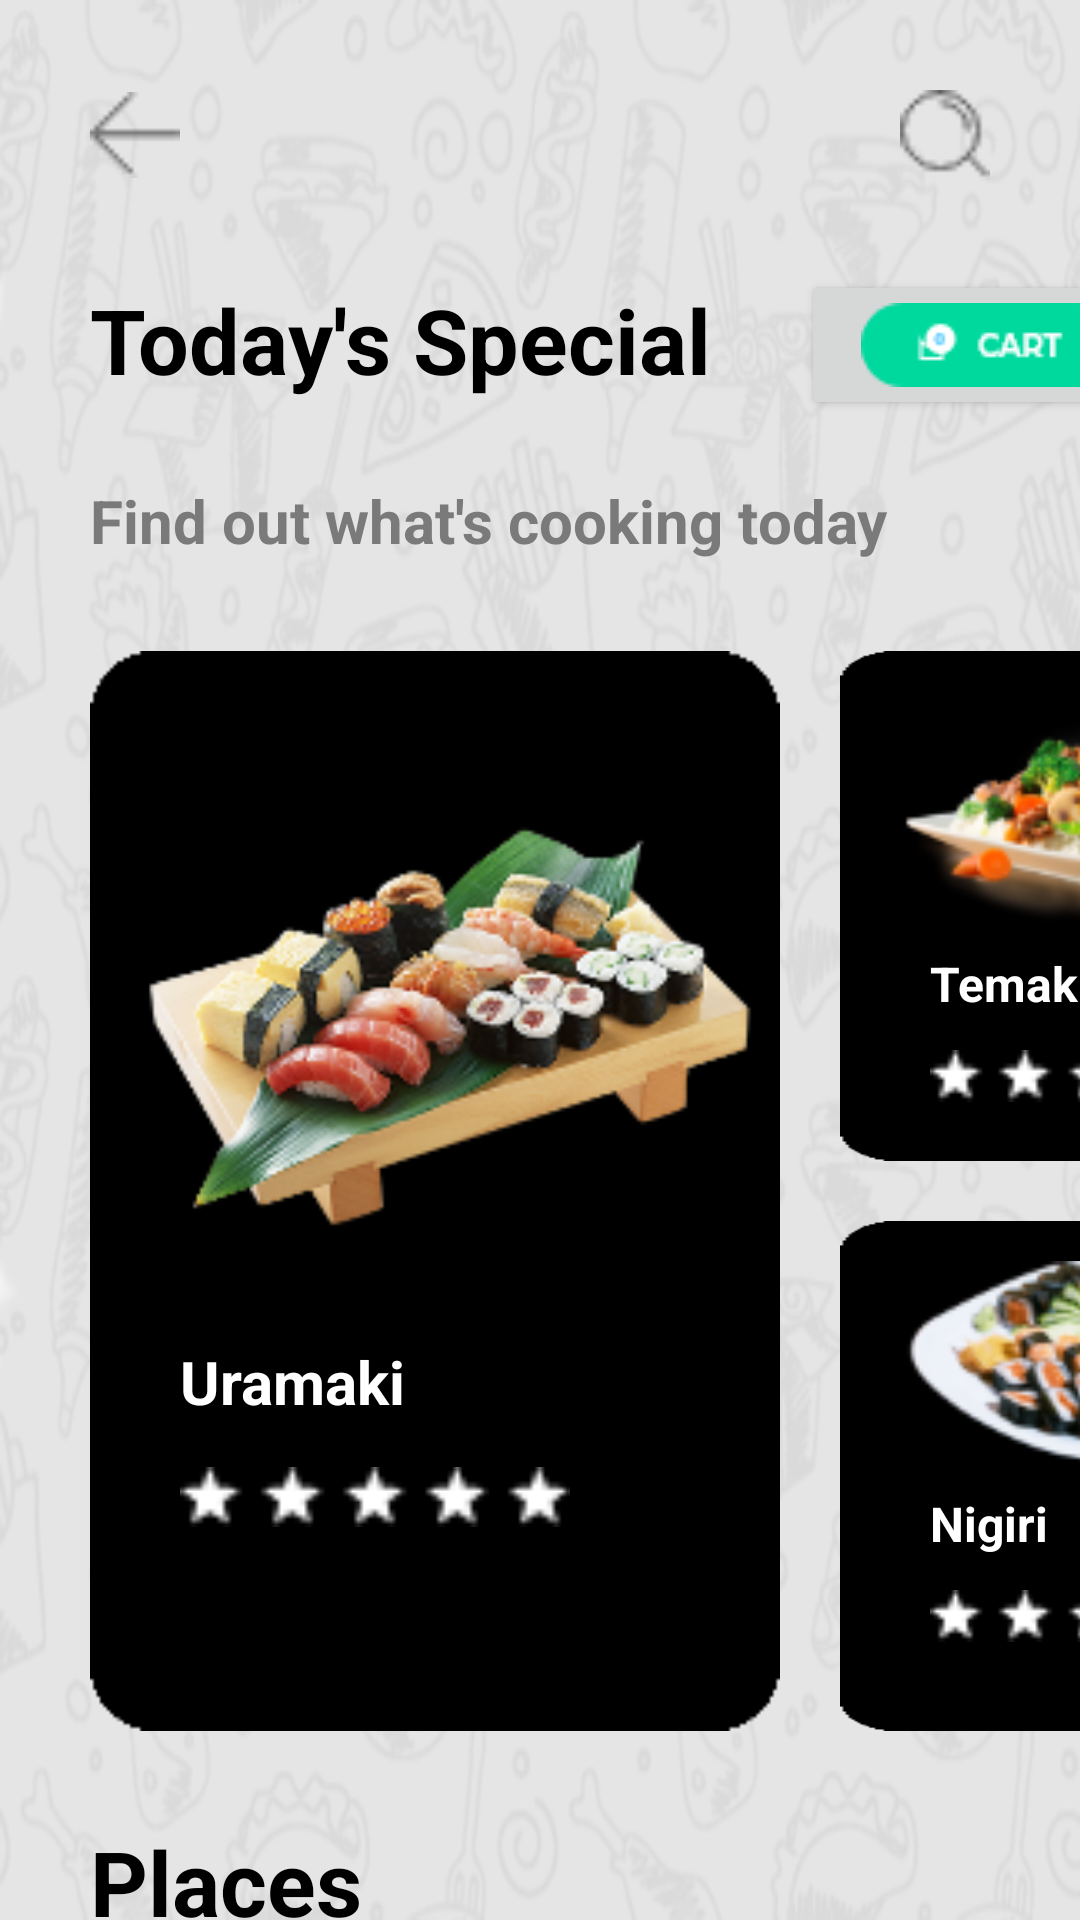

Point at icon controls on the screen. Image size 1080 x 1920, points as (x,y).
back: (135,133)
search: (945,133)
